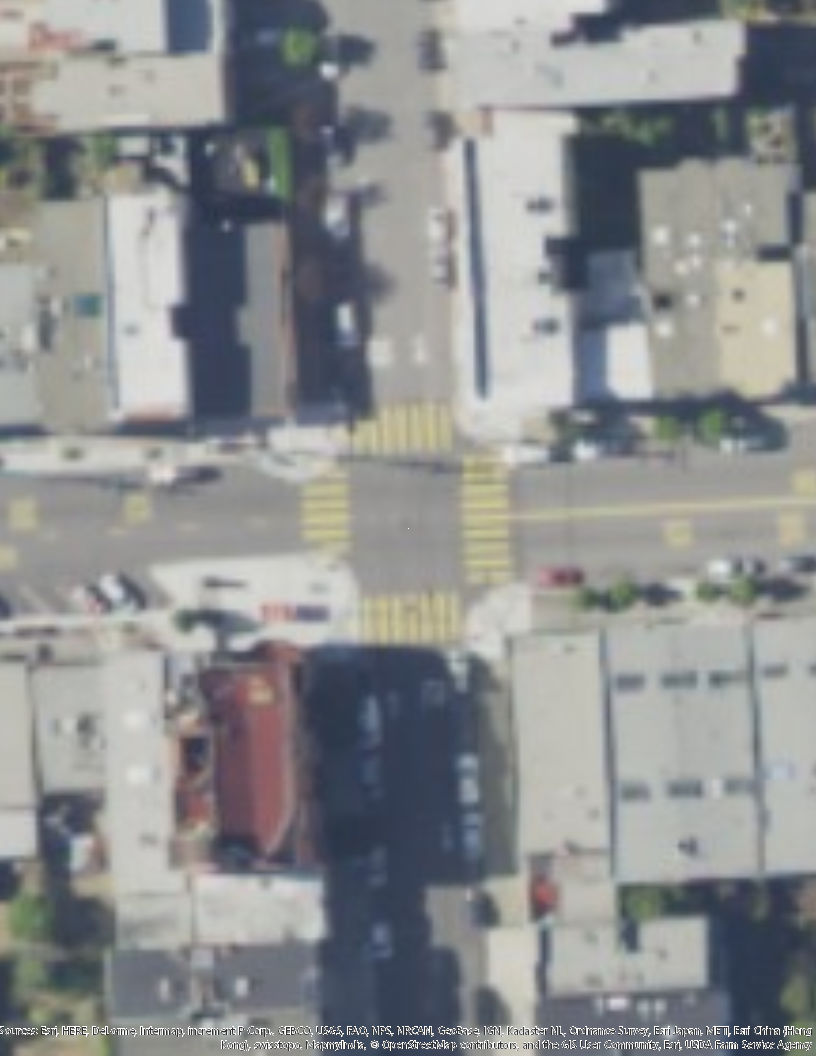zebracross: (464, 458, 512, 584), (350, 403, 455, 456), (299, 463, 352, 558), (362, 591, 464, 640)
